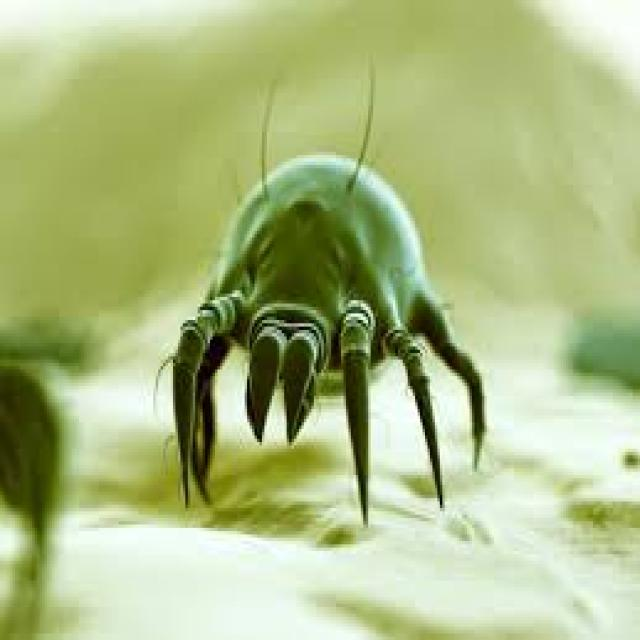Mites: (148, 44, 489, 535)
